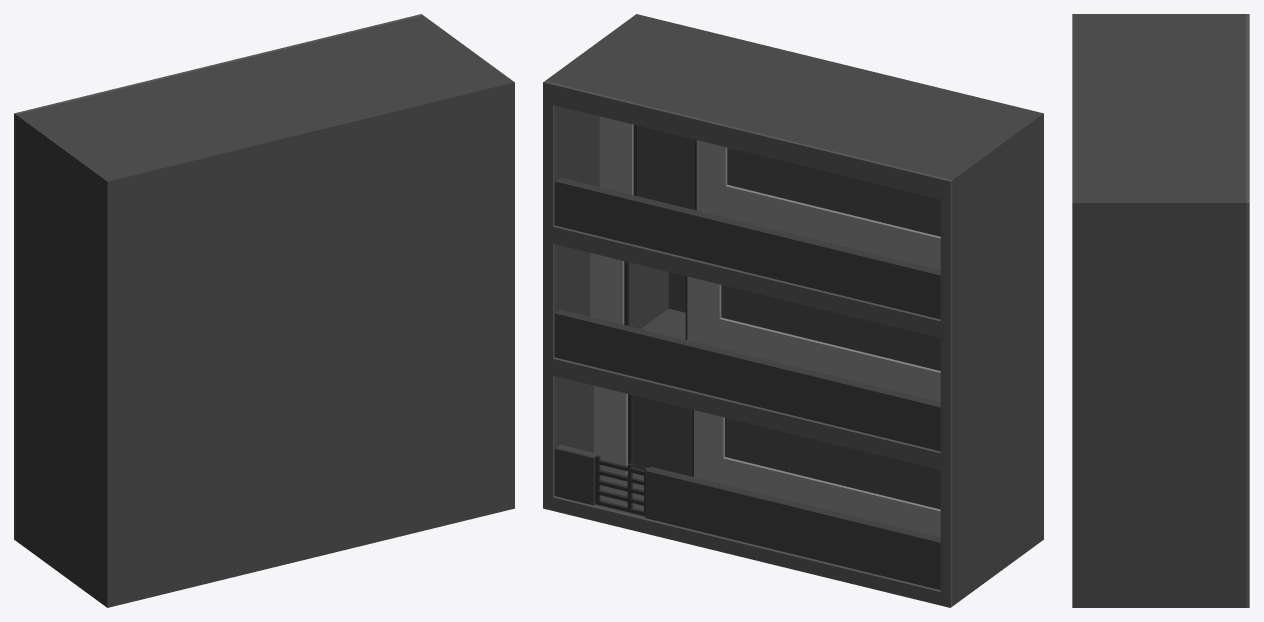
File: Building_BaseResident-2.obj
3 renders of one model, left to right at view 1: azimuth 30°, elevation 25°; view 2: azimuth 150°, elevation 25°; view 3: azimuth 270°, elevation 25°, orthographic. The views are drawn at different scales.
Size of the model in its own units: 12.6 by 12.6 by 5.
1 material, 1 textured.
